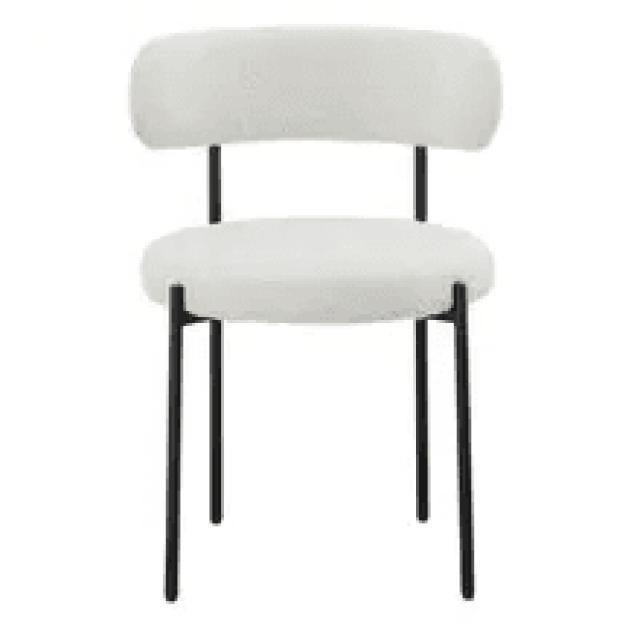chair: (123, 20, 513, 608), (120, 21, 510, 320)
